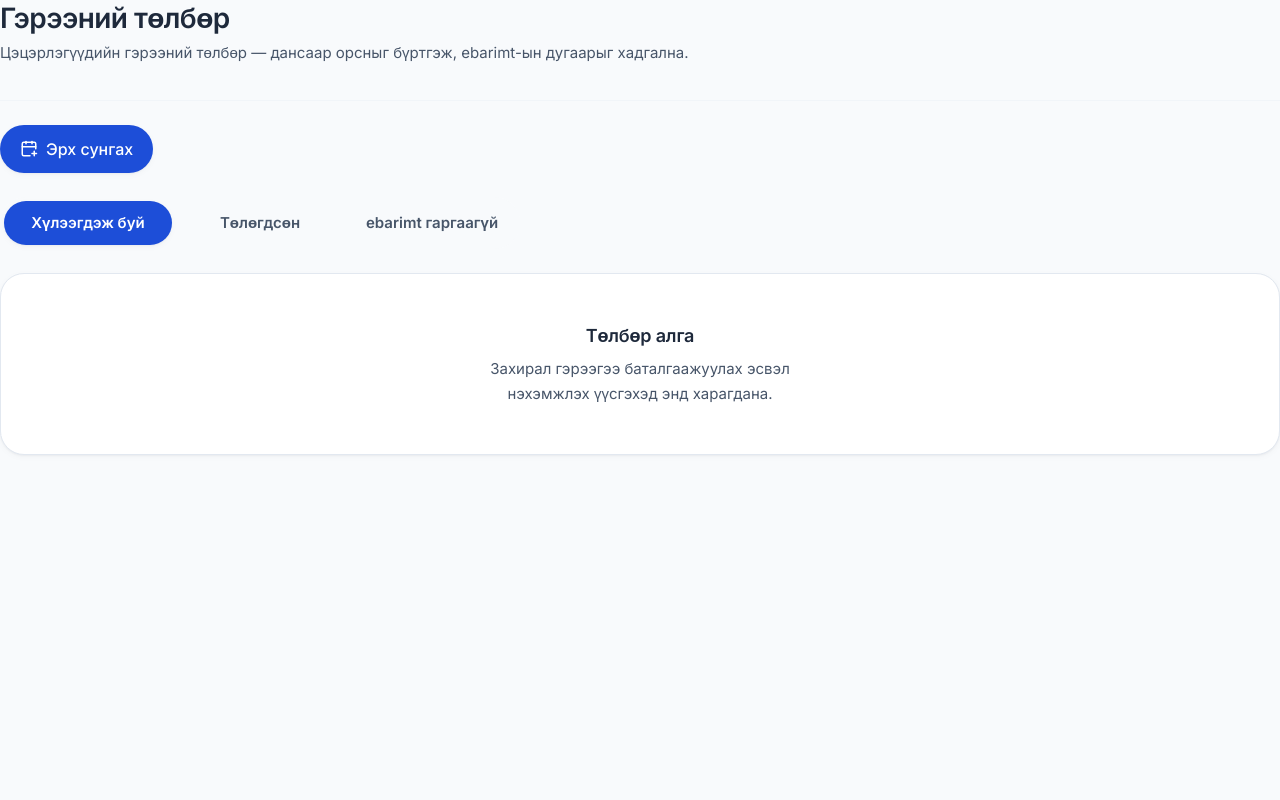
Test: the operator's contract payments › extends a kindergarten's service from the kindergarten, with its end and a note
Click the button "Эрх сунгах". click: (77, 149)
box: [0, 125, 153, 173]
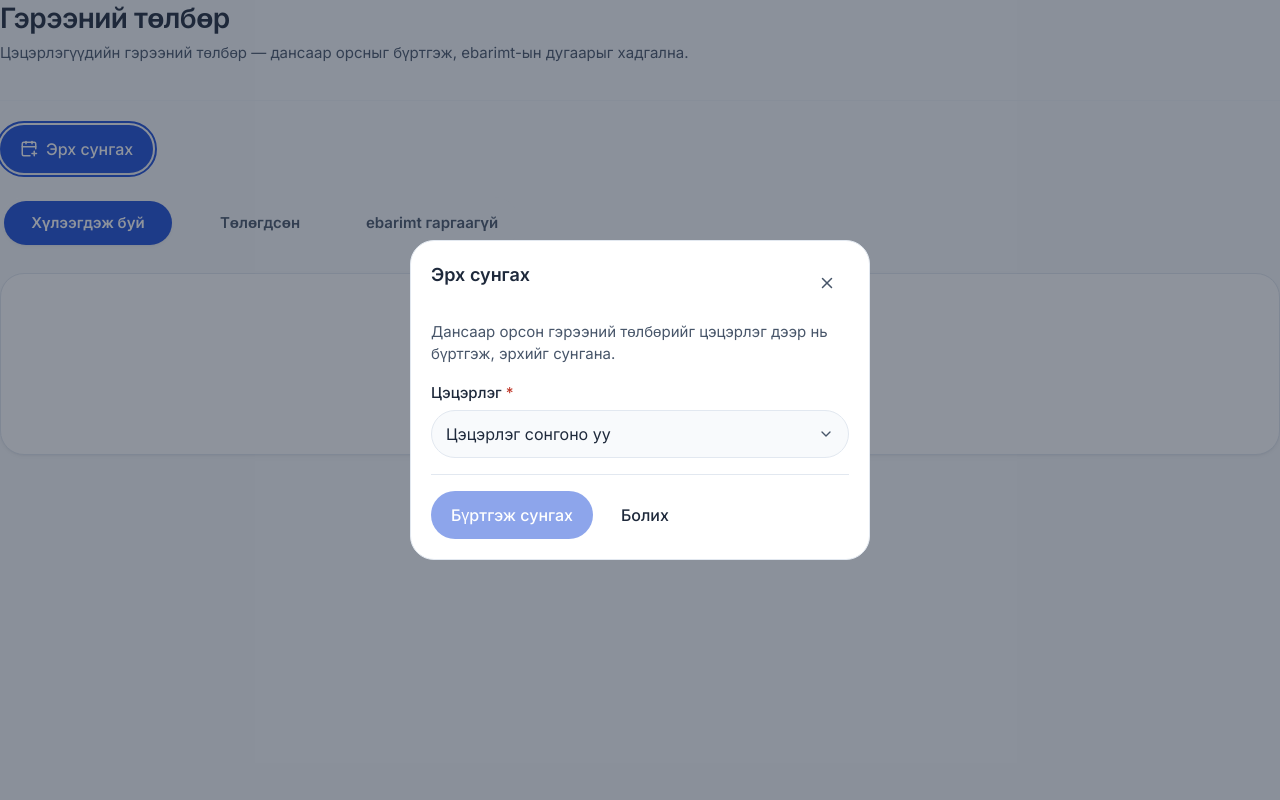
Click the dropdown labelled "Цэцэрлэг сонгоно уу". click: (528, 434)
box: [431, 410, 849, 458]
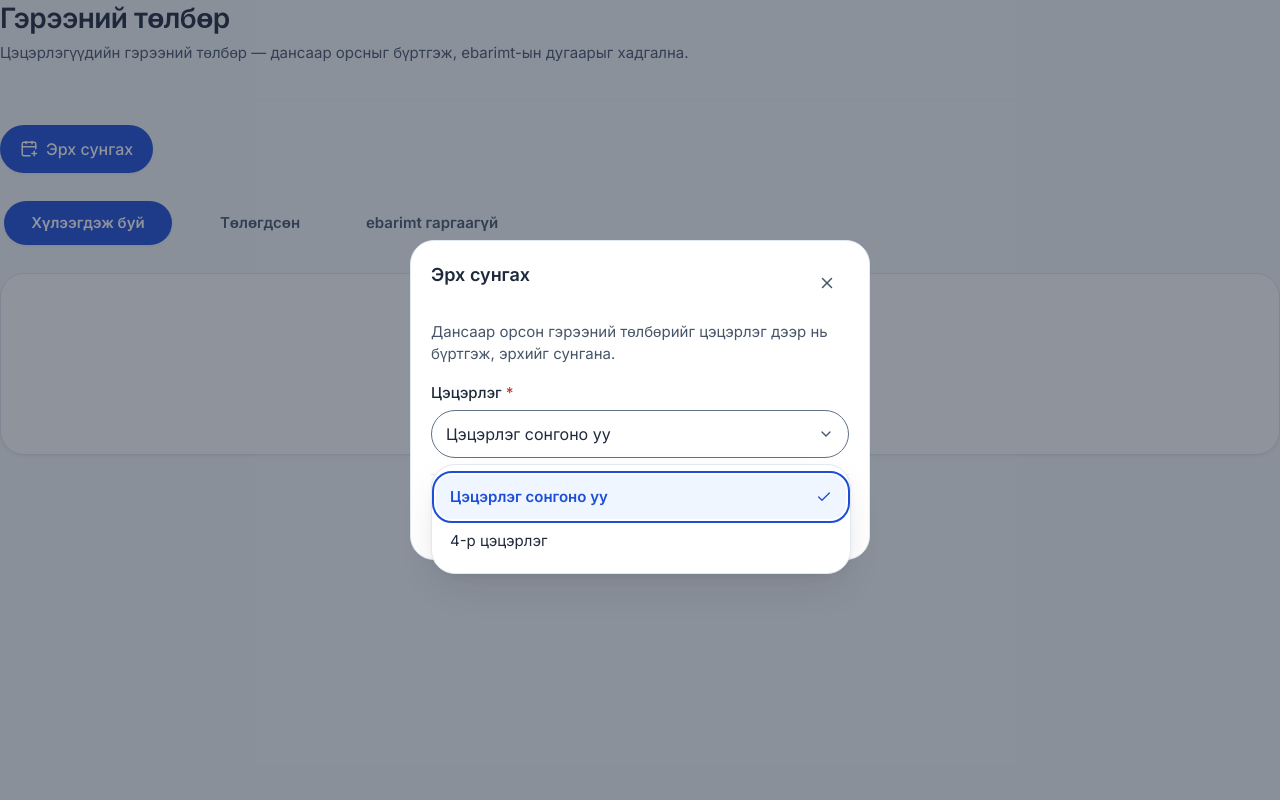
Click the option "4-р цэцэрлэг". click: (499, 540)
box: [450, 531, 548, 550]
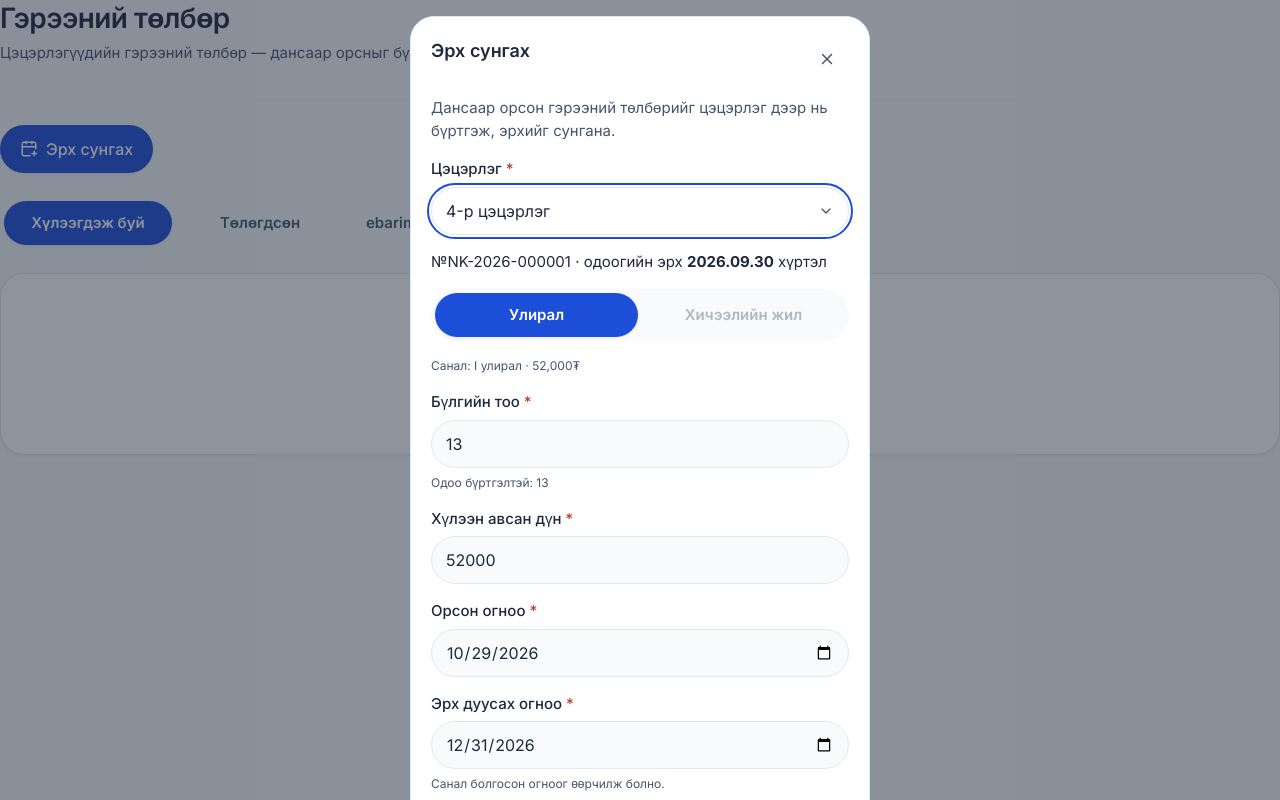
Result: the date field labelled "Эрх дуусах огноо *" holds "2026-12-31"
Result: the field labelled "Хүлээн авсан дүн *" holds "52000" at [431, 536, 849, 584]
Type "2027-01-31" into the date field labelled "Эрх дуусах огноо *". click: (640, 745)
box: [431, 721, 849, 769]
(page scrolled)
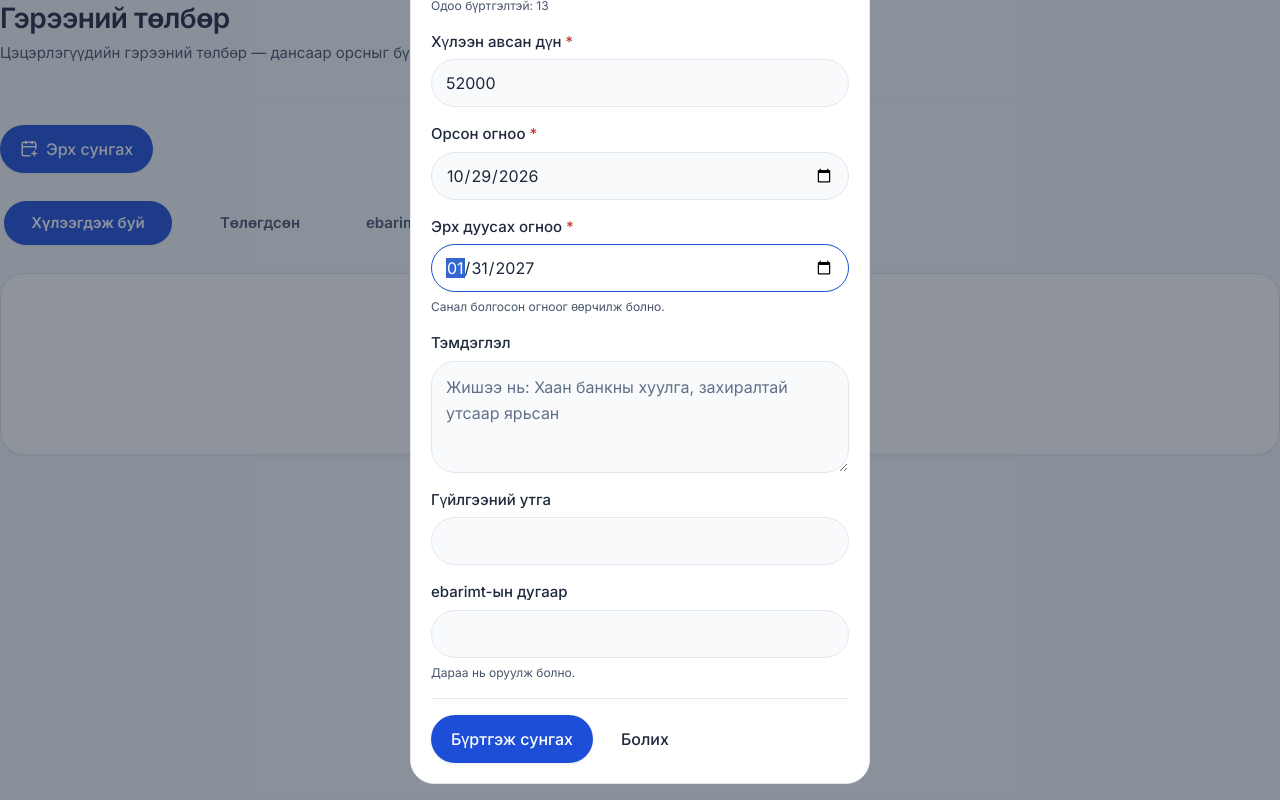
Type "Хаан банкны хуулга" into the text box labelled "Тэмдэглэл". click: (640, 416)
box: [431, 360, 849, 472]
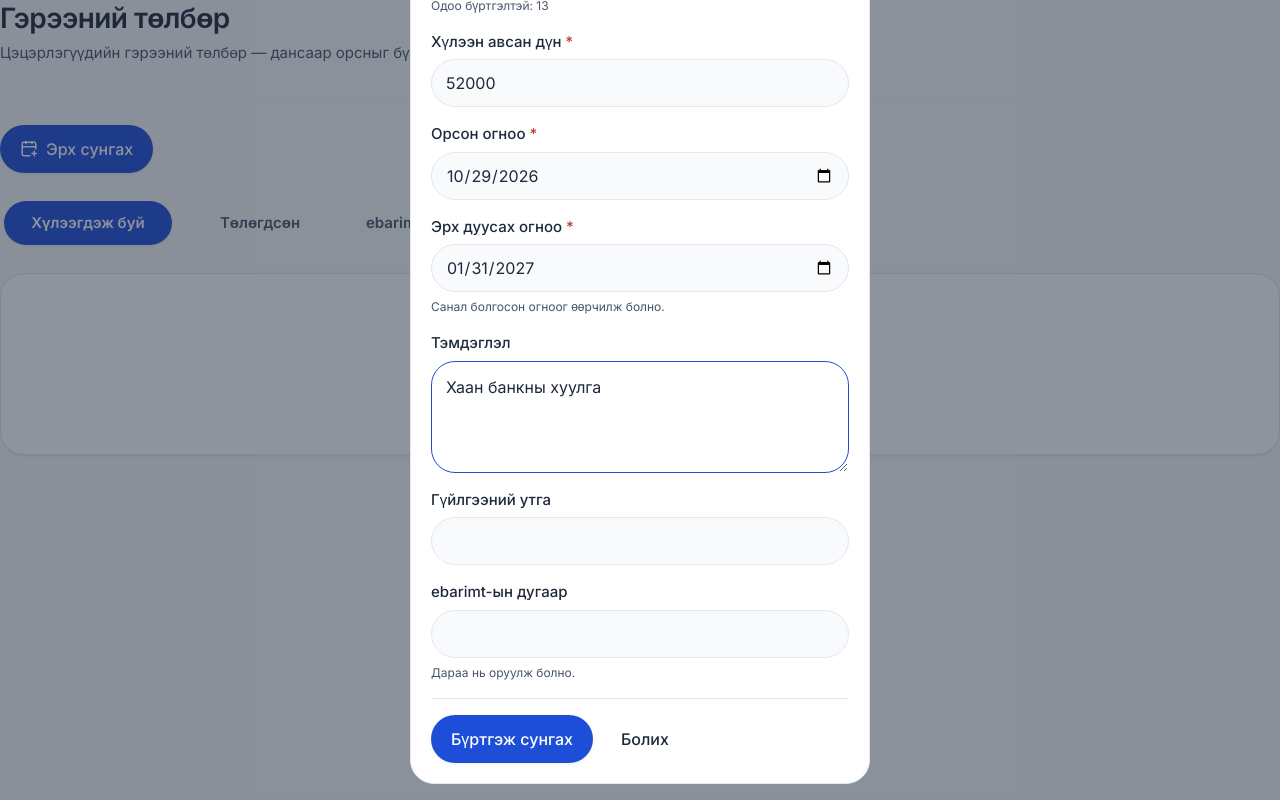
Click the button "Бүртгэж сунгах". click: (512, 738)
box: [431, 714, 593, 762]
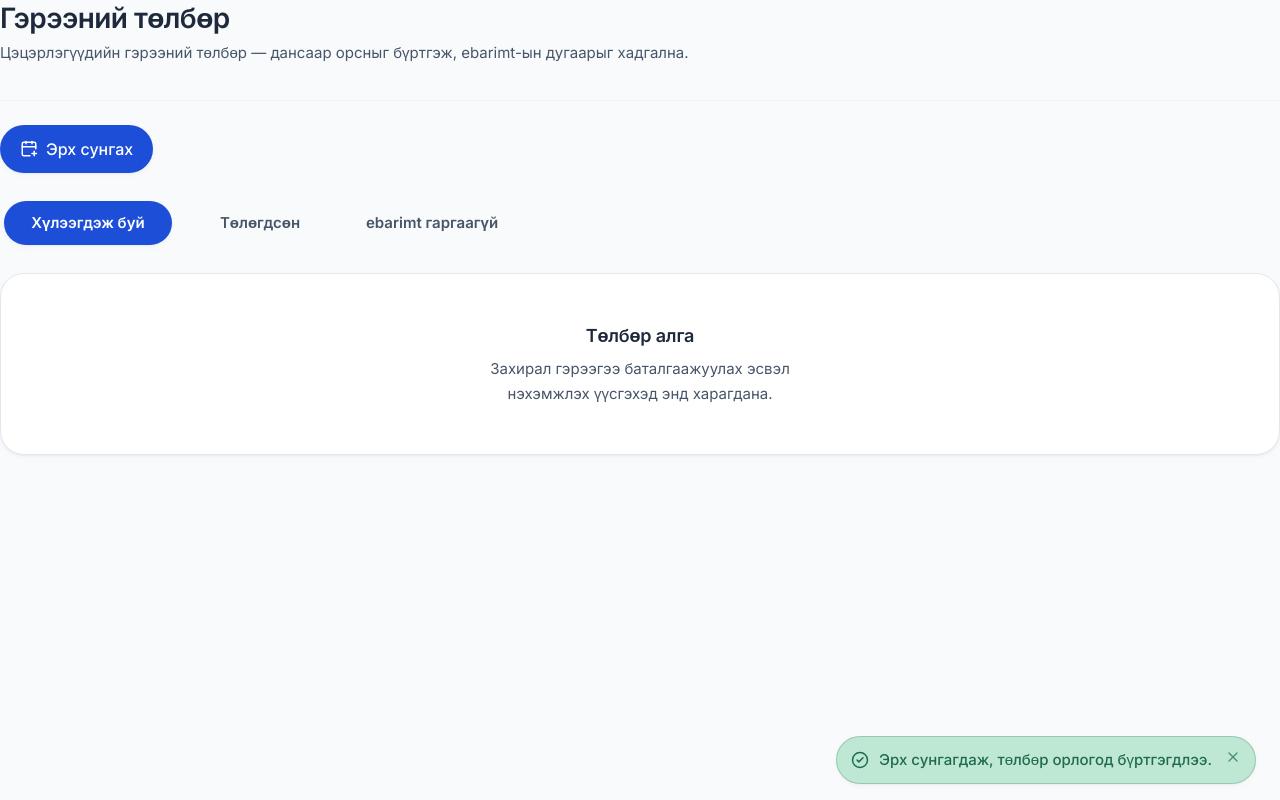
Result: the text "Эрх сунгагдаж, төлбөр орлогод бүртгэгдлээ." is shown at [879, 748, 1215, 771]
